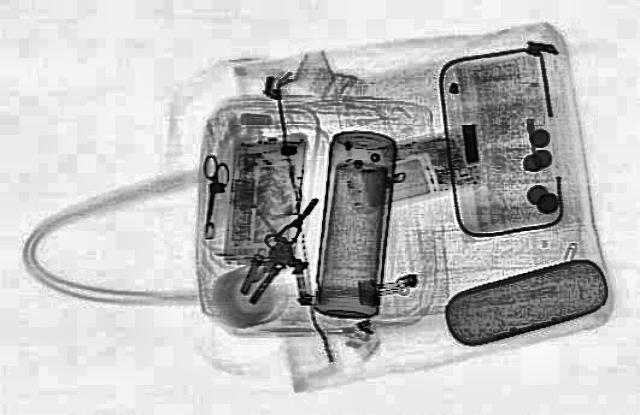Scissors: (190, 154, 232, 234)
